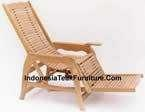obstacle: (0, 0, 144, 110)
